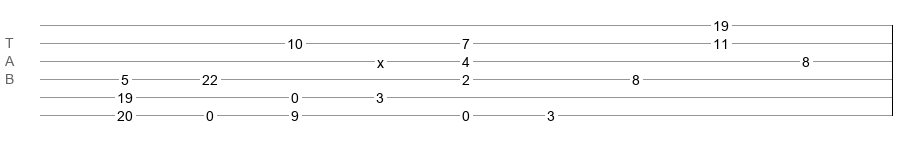0: (206, 108, 214, 118), (291, 90, 299, 100), (462, 108, 470, 118)
10: (287, 36, 303, 46)
11: (713, 36, 729, 46)
19: (117, 90, 133, 100), (713, 18, 729, 28)
2: (462, 72, 470, 82)
20: (117, 108, 133, 118)
22: (202, 72, 218, 82)
3: (376, 90, 384, 100), (547, 108, 555, 118)
4: (462, 54, 470, 64)
5: (121, 72, 129, 82)
7: (462, 36, 470, 46)
8: (632, 72, 640, 82), (802, 54, 810, 64)
9: (291, 108, 299, 118)
x: (377, 55, 384, 63)
